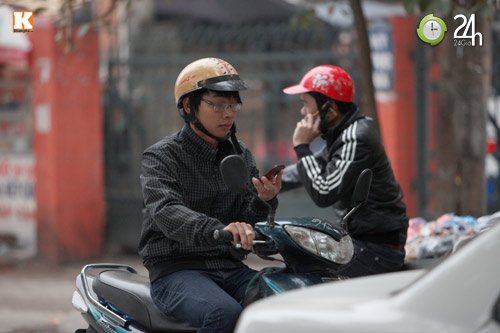su dung dien thoai: (289, 66, 354, 147)
